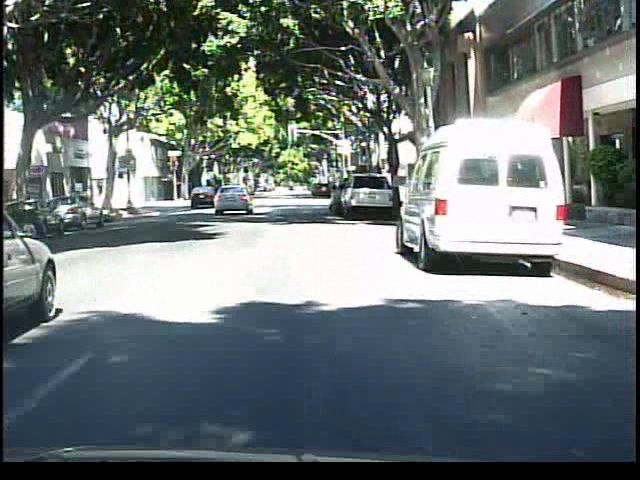person: (229, 171, 250, 205)
